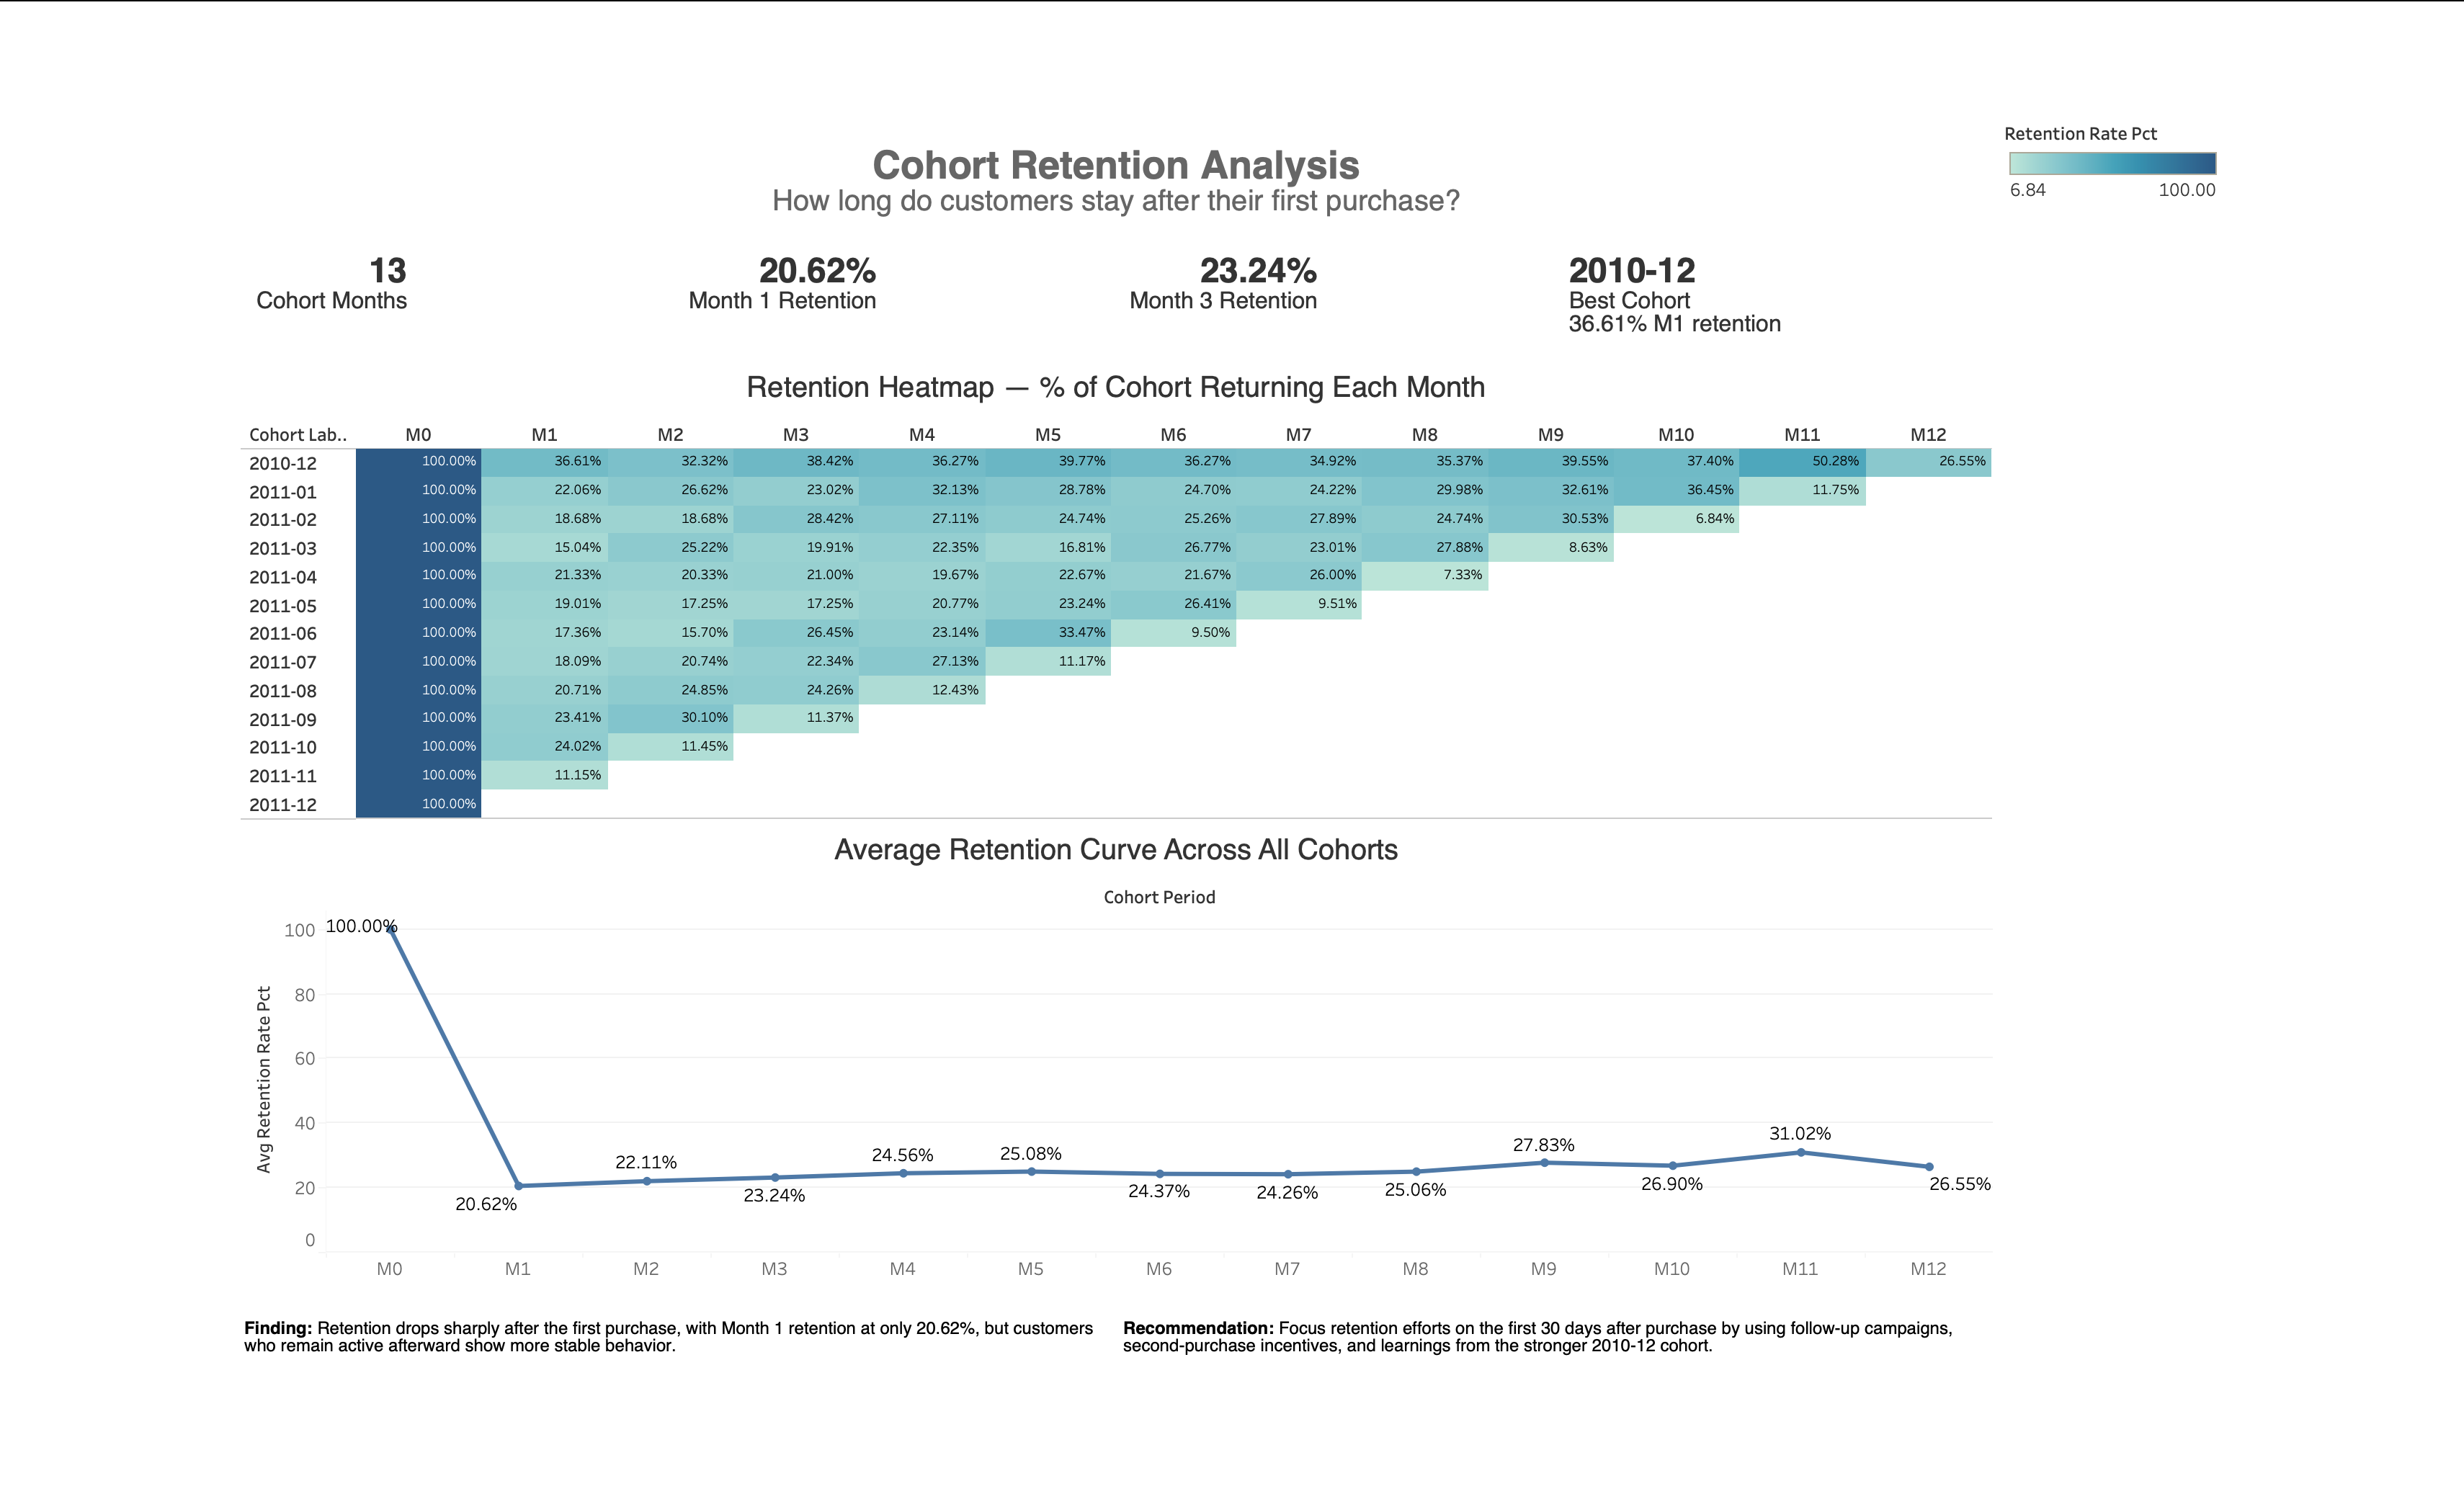

What the dashboard file says about the page in this screenshot:
{"tool":"tableau","page":{"name":"Dashboard 2 - Cohort Retention Analysis","canvas":[1400,900],"ordinal":1},"visuals":[{"type":"text","box":[8,8,1224,94]},{"type":"legend","title":"D2 Cohort Retention Heatmap","param":"[federated.1qtichp0im19x71ckjwd40acqe77].[sum:retention_rate_pct:qk]","box":[1232,8,160,65]},{"type":"worksheet","title":"D2 KPI Cohort Months","mark":"Automatic","box":[8,102,306,78]},{"type":"worksheet","title":"D2 KPI Month 1 Retention","mark":"Automatic","box":[314,102,306,78]},{"type":"worksheet","title":"D2 KPI Month 3 Retention","mark":"Automatic","box":[620,102,306,78]},{"type":"worksheet","title":"D2 KPI Best Cohort","mark":"Automatic","box":[926,102,306,78]},{"type":"worksheet","title":"D2 Cohort Retention Heatmap","mark":"Square","rows":["Calculation_0448748869271561"],"cols":["Calculation_0448748873695242"],"box":[8,180,1224,321]},{"type":"worksheet","title":"D2 Average Retention Curve","mark":"Line","rows":["avg_retention_rate_pct"],"cols":["Calculation_0448748862468100"],"box":[8,501,1224,321]},{"type":"text","box":[8,822,610,70]},{"type":"text","box":[618,822,614,70]}]}

Visuals, with their boxes on the page's 1400x900 design canvas (x1, y1, x2, y2). These are canvas units, not pixel positions in the 2464x1504 screenshot, which may show the page scaled, cropped or inside an application window:
text: <bbox>8, 8, 1232, 102</bbox>
"D2 Cohort Retention Heatmap" legend: <bbox>1232, 8, 1392, 73</bbox>
"D2 KPI Cohort Months" worksheet: <bbox>8, 102, 314, 180</bbox>
"D2 KPI Month 1 Retention" worksheet: <bbox>314, 102, 620, 180</bbox>
"D2 KPI Month 3 Retention" worksheet: <bbox>620, 102, 926, 180</bbox>
"D2 KPI Best Cohort" worksheet: <bbox>926, 102, 1232, 180</bbox>
"D2 Cohort Retention Heatmap" worksheet (Square marks): <bbox>8, 180, 1232, 501</bbox>
"D2 Average Retention Curve" worksheet (Line marks): <bbox>8, 501, 1232, 822</bbox>
text: <bbox>8, 822, 618, 892</bbox>
text: <bbox>618, 822, 1232, 892</bbox>
